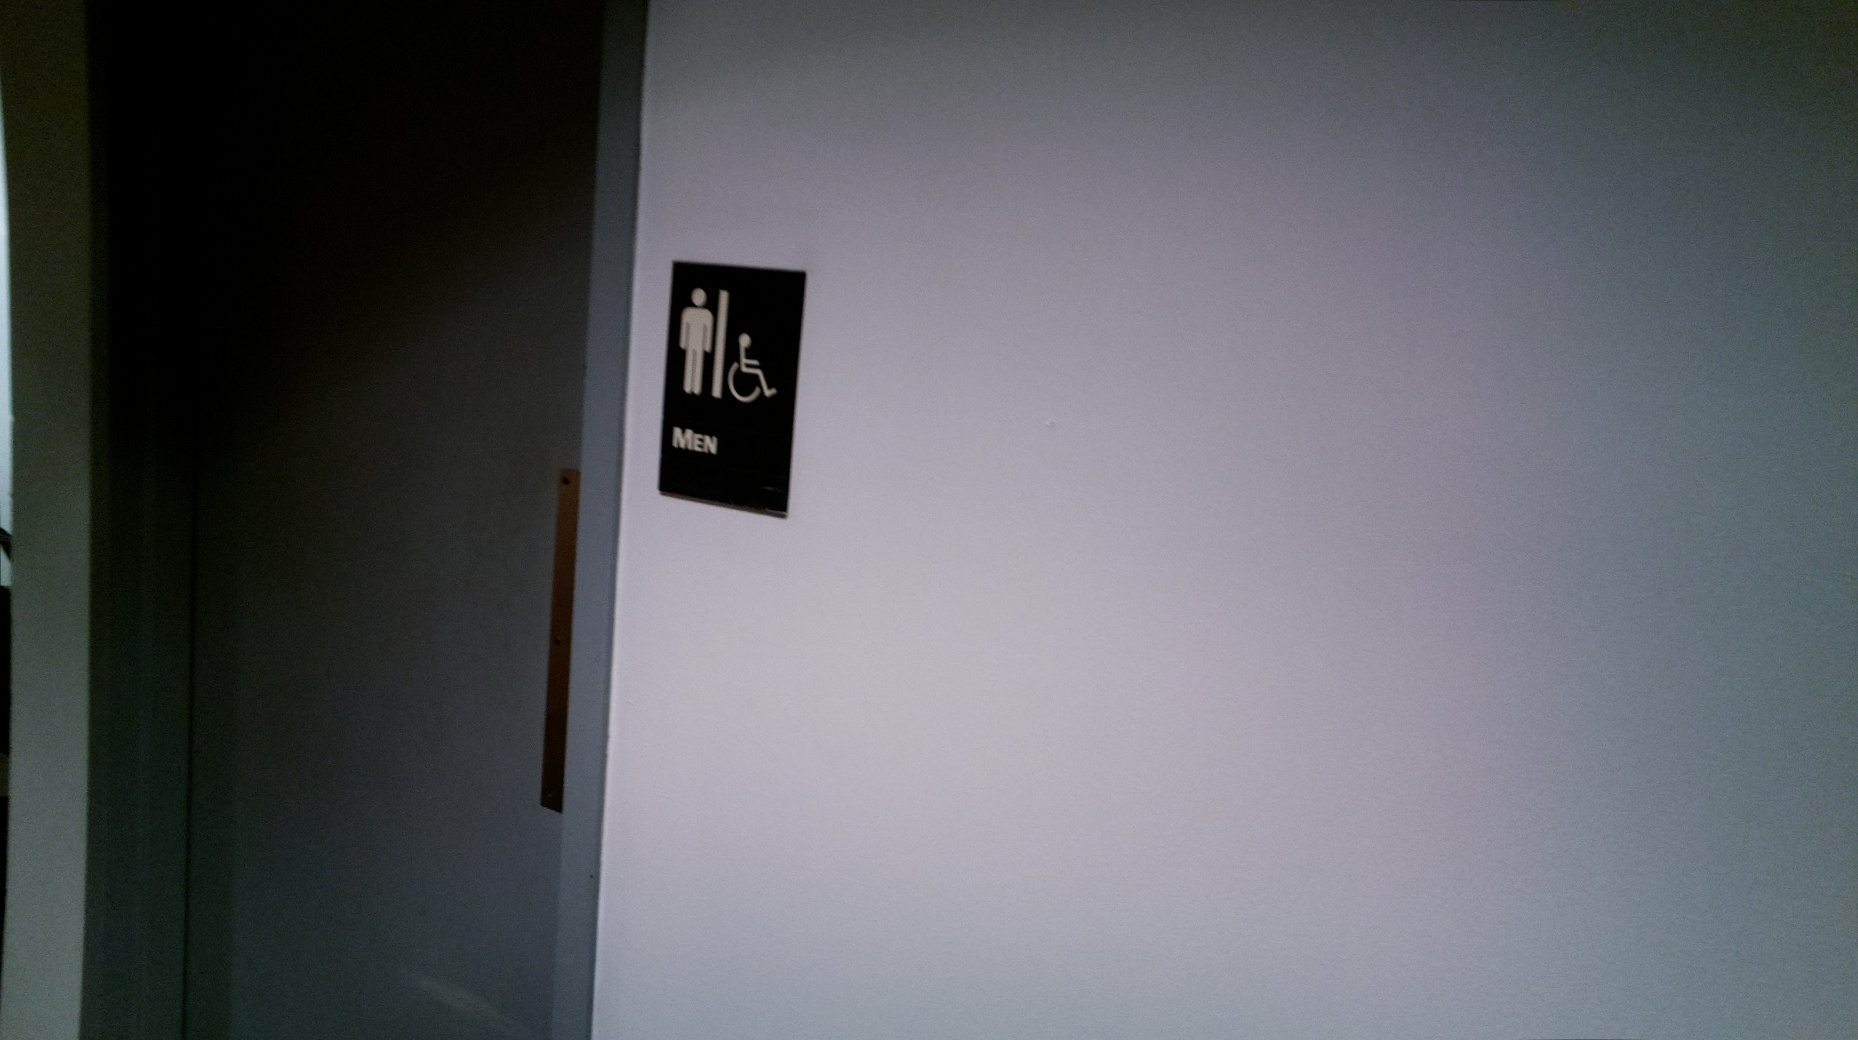bathroom sign: (657, 259, 809, 521)
